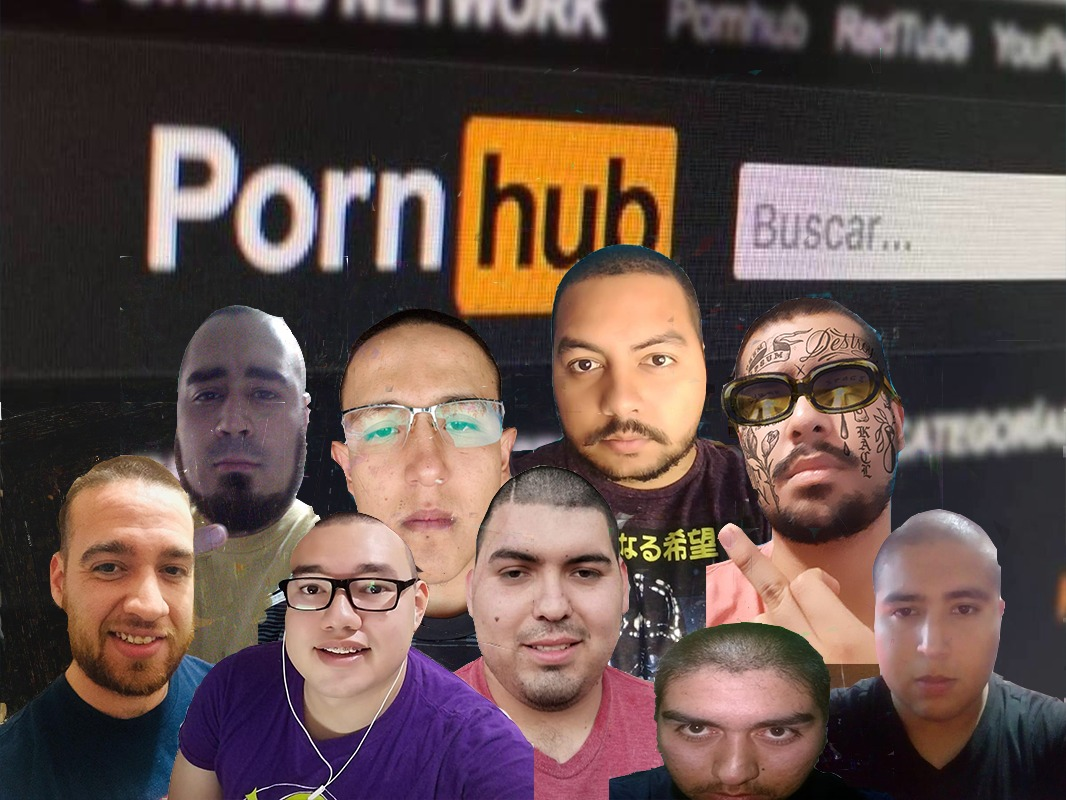Yoshi: (542, 231, 719, 481)
